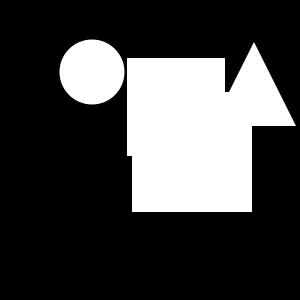circle: (132, 92, 252, 212), (127, 58, 225, 156)
rectangle: (59, 39, 124, 104)
triangle: (212, 42, 296, 126)
